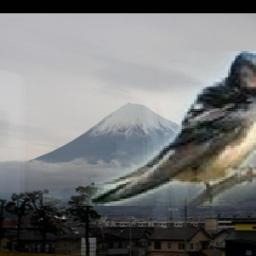Swallow: (44, 52, 256, 207)
